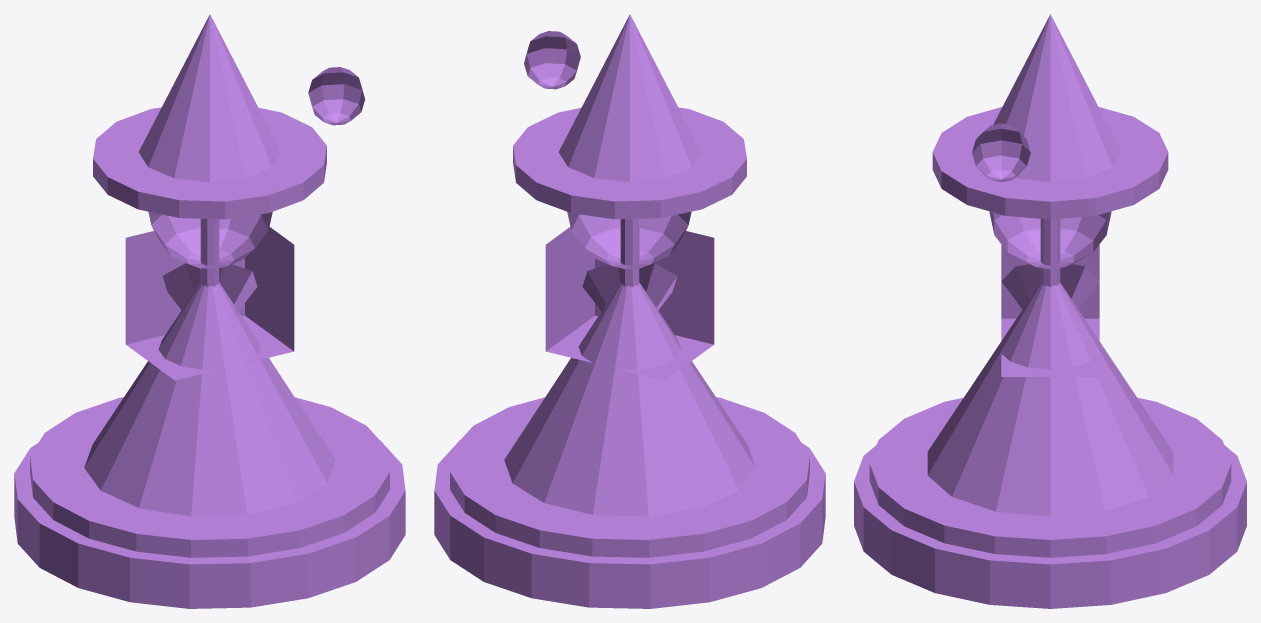
File: character_wizard_pawn.glb
The picture shows the model from 3 angles, left to right: view 1: azimuth 30°, elevation 25°; view 2: azimuth 150°, elevation 25°; view 3: azimuth 270°, elevation 25°; orthographic projection.
Visible parts, largest first — view 1: WizardPawn_Node; view 2: WizardPawn_Node; view 3: WizardPawn_Node.
Boxes of the visible parts, left/top/right/bottom form: WizardPawn_Node: left=14, top=14, right=405, bottom=608; WizardPawn_Node: left=434, top=14, right=825, bottom=608; WizardPawn_Node: left=854, top=14, right=1246, bottom=608.
Size of the model in its own units: 0.8 by 1.15 by 0.8.
